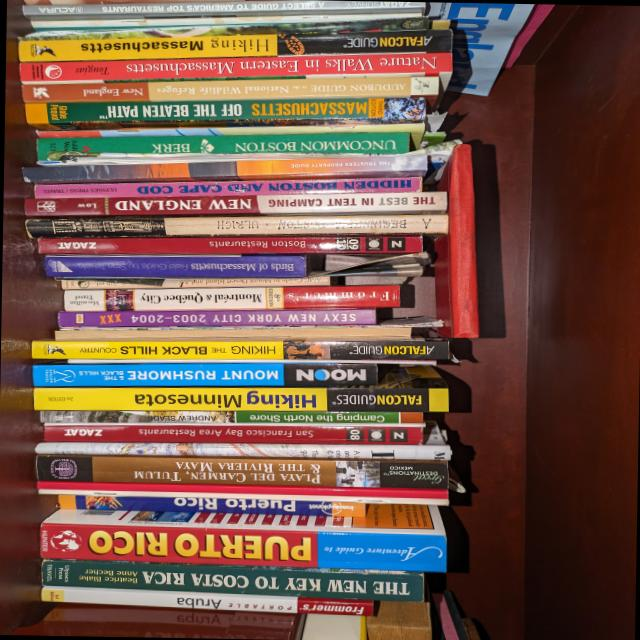book: (38, 498, 445, 571), (33, 366, 447, 413), (39, 557, 423, 602), (24, 96, 424, 138), (16, 28, 451, 63), (35, 453, 448, 488), (18, 52, 450, 85), (24, 210, 447, 241), (21, 154, 427, 186), (22, 190, 446, 220), (21, 76, 438, 103), (35, 130, 410, 160), (39, 584, 376, 617), (62, 283, 399, 313), (30, 338, 448, 361), (33, 176, 420, 199), (42, 422, 422, 445), (31, 362, 376, 387), (35, 440, 450, 460), (39, 234, 420, 255), (57, 493, 366, 518), (56, 307, 375, 328), (43, 253, 307, 278), (39, 409, 422, 426), (56, 274, 330, 290)
